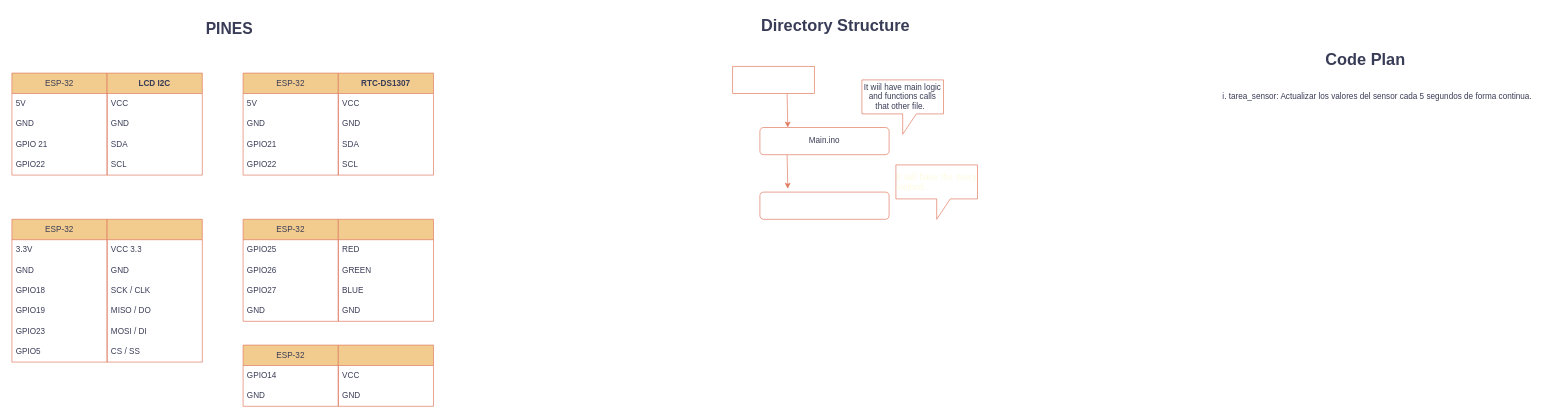
The diagram is 1549 pixels wide and 418 high, and some of its shapes have lost their labels. Each missing label, with the box of its shape:
BUZZER: (338, 344, 434, 406)
Functions.cpp: (759, 191, 889, 219)
LED RGB: (338, 219, 434, 321)
MicroSD: (106, 219, 202, 362)
New-Datalogger: (732, 66, 814, 94)
